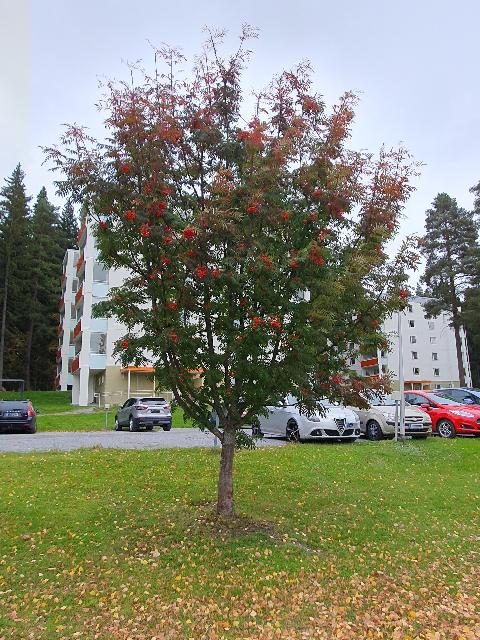rowan: (33, 17, 433, 533)
